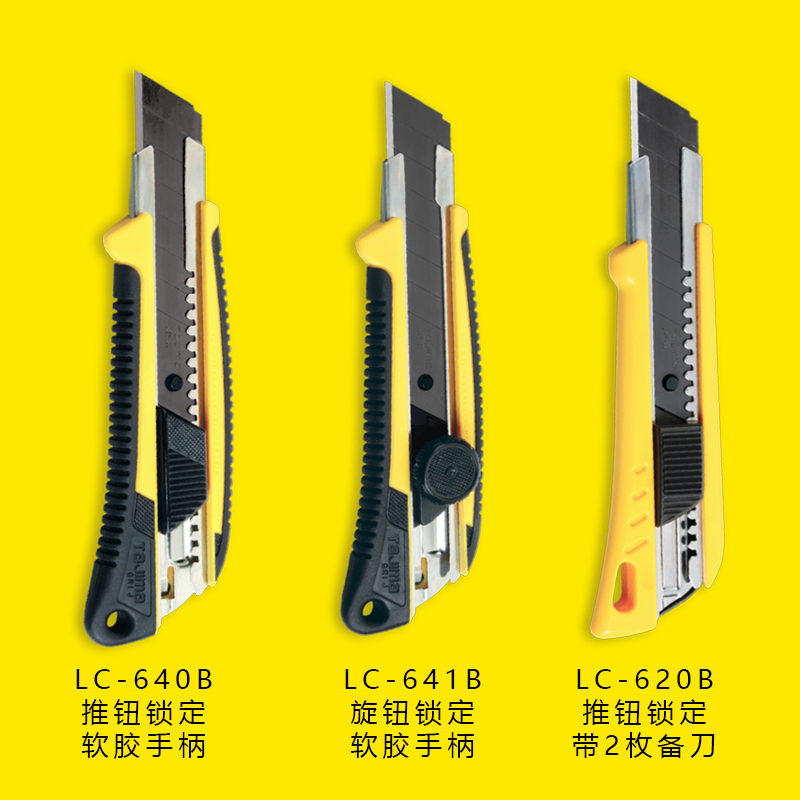cutter: (81, 68, 237, 646), (589, 74, 730, 640), (341, 81, 484, 636)
